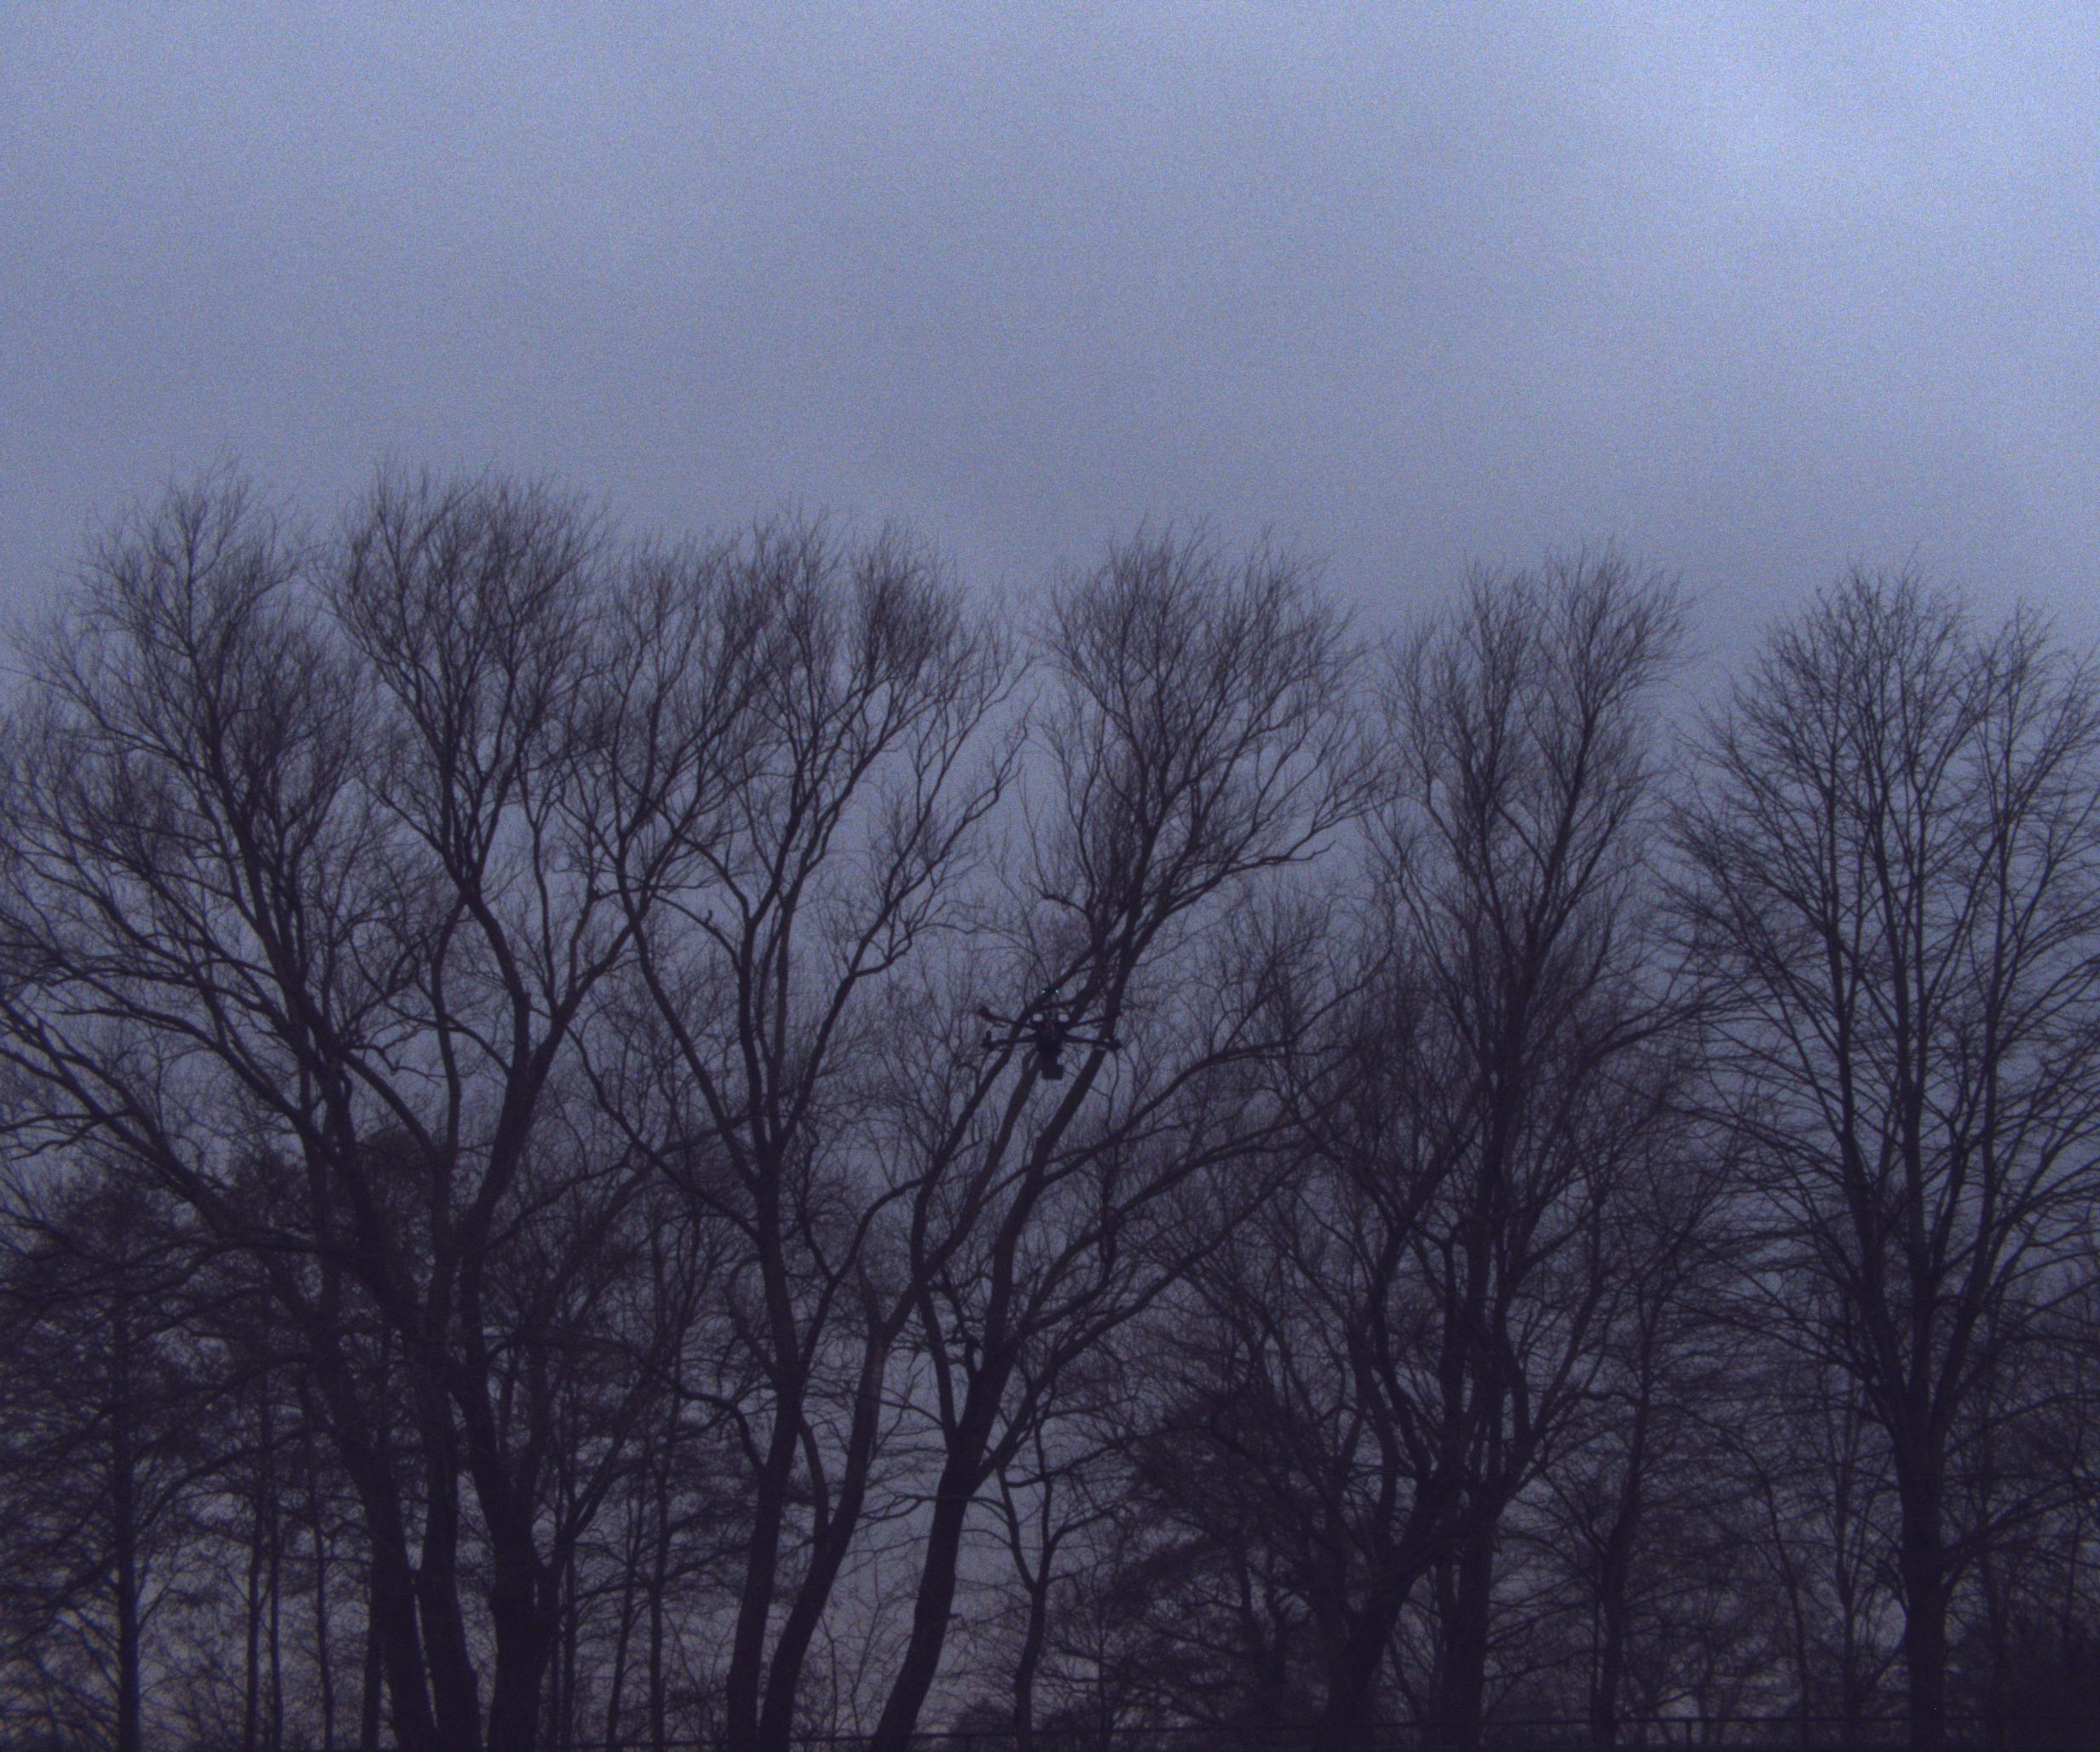Drohne: (893, 952, 1292, 1154)
